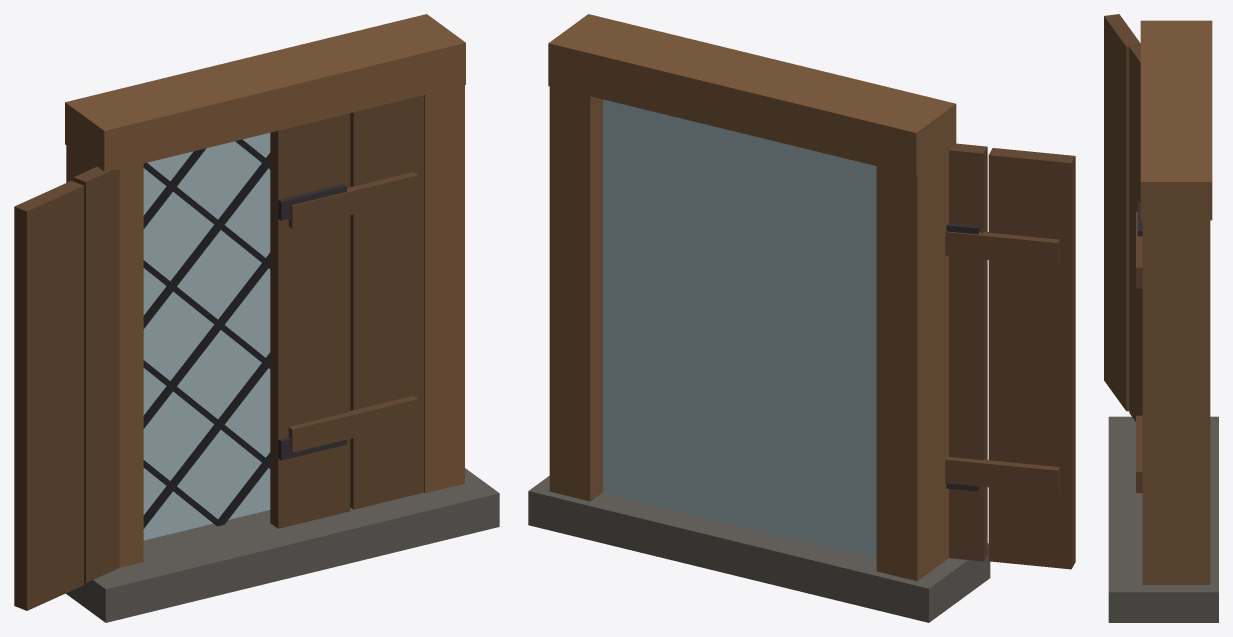
The model's file is SM_Window_Cottage_01.glb.
3 views of the same model, side by side, from view 1: azimuth 30°, elevation 25°; view 2: azimuth 150°, elevation 25°; view 3: azimuth 270°, elevation 25° (orthographic). The views are drawn at different scales.
Visible parts, largest first — view 1: SM_Window_Cottage_01_Glass, SM_Window_Cottage_01_Lintel, SM_Window_Cottage_01_ShutterL_Plank2, SM_Window_Cottage_01_ShutterR_Plank1, SM_Window_Cottage_01_ShutterR_Plank2, SM_Window_Cottage_01_Sill, SM_Window_Cottage_01_JambR, SM_Window_Cottage_01_ShutterL_Plank1, SM_Window_Cottage_01_Frame, SM_Window_Cottage_01_ShutterR_Ledge0, SM_Window_Cottage_01_ShutterR_Ledge1, SM_Window_Cottage_01_DiagA1 (+8 smaller); view 2: SM_Window_Cottage_01_Glass, SM_Window_Cottage_01_ShutterL_Plank2, SM_Window_Cottage_01_Lintel, SM_Window_Cottage_01_Frame, SM_Window_Cottage_01_Sill, SM_Window_Cottage_01_JambR, SM_Window_Cottage_01_ShutterL_Plank1, SM_Window_Cottage_01_ShutterL_Ledge0, SM_Window_Cottage_01_ShutterL_Ledge1; view 3: SM_Window_Cottage_01_JambR, SM_Window_Cottage_01_Lintel, SM_Window_Cottage_01_Sill, SM_Window_Cottage_01_ShutterL_Plank2, SM_Window_Cottage_01_ShutterL_Plank1, SM_Window_Cottage_01_ShutterR_Ledge0, SM_Window_Cottage_01_ShutterR_Ledge1.
Boxes of the visible parts, <box> form: SM_Window_Cottage_01_Glass: <box>143,133,270,540</box>; SM_Window_Cottage_01_Lintel: <box>65,14,465,171</box>; SM_Window_Cottage_01_ShutterL_Plank2: <box>14,180,83,610</box>; SM_Window_Cottage_01_ShutterR_Plank1: <box>270,113,350,528</box>; SM_Window_Cottage_01_ShutterR_Plank2: <box>350,95,423,509</box>; SM_Window_Cottage_01_Sill: <box>66,468,499,622</box>; SM_Window_Cottage_01_JambR: <box>424,85,464,493</box>; SM_Window_Cottage_01_ShutterL_Plank1: <box>73,166,119,582</box>; SM_Window_Cottage_01_Frame: <box>66,145,143,567</box>; SM_Window_Cottage_01_ShutterR_Ledge0: <box>288,395,418,452</box>; SM_Window_Cottage_01_ShutterR_Ledge1: <box>288,172,418,228</box>; SM_Window_Cottage_01_DiagA1: <box>143,153,270,328</box>; SM_Window_Cottage_01_Glass: <box>603,99,876,558</box>; SM_Window_Cottage_01_ShutterL_Plank2: <box>988,148,1075,569</box>; SM_Window_Cottage_01_Lintel: <box>548,14,956,175</box>; SM_Window_Cottage_01_Frame: <box>876,152,948,581</box>; SM_Window_Cottage_01_Sill: <box>528,476,990,622</box>; SM_Window_Cottage_01_JambR: <box>549,86,602,501</box>; SM_Window_Cottage_01_ShutterL_Plank1: <box>949,143,987,561</box>; SM_Window_Cottage_01_ShutterL_Ledge0: <box>945,457,1059,494</box>; SM_Window_Cottage_01_ShutterL_Ledge1: <box>945,231,1059,266</box>; SM_Window_Cottage_01_JambR: <box>1142,220,1210,584</box>; SM_Window_Cottage_01_Lintel: <box>1140,20,1212,220</box>; SM_Window_Cottage_01_Sill: <box>1108,416,1218,622</box>; SM_Window_Cottage_01_ShutterL_Plank2: <box>1104,14,1140,411</box>; SM_Window_Cottage_01_ShutterL_Plank1: <box>1129,45,1142,421</box>; SM_Window_Cottage_01_ShutterR_Ledge0: <box>1136,415,1142,492</box>; SM_Window_Cottage_01_ShutterR_Ledge1: <box>1136,211,1142,288</box>.
Bounding box in the file's own units: 1.19 × 1.13 × 0.2708.
